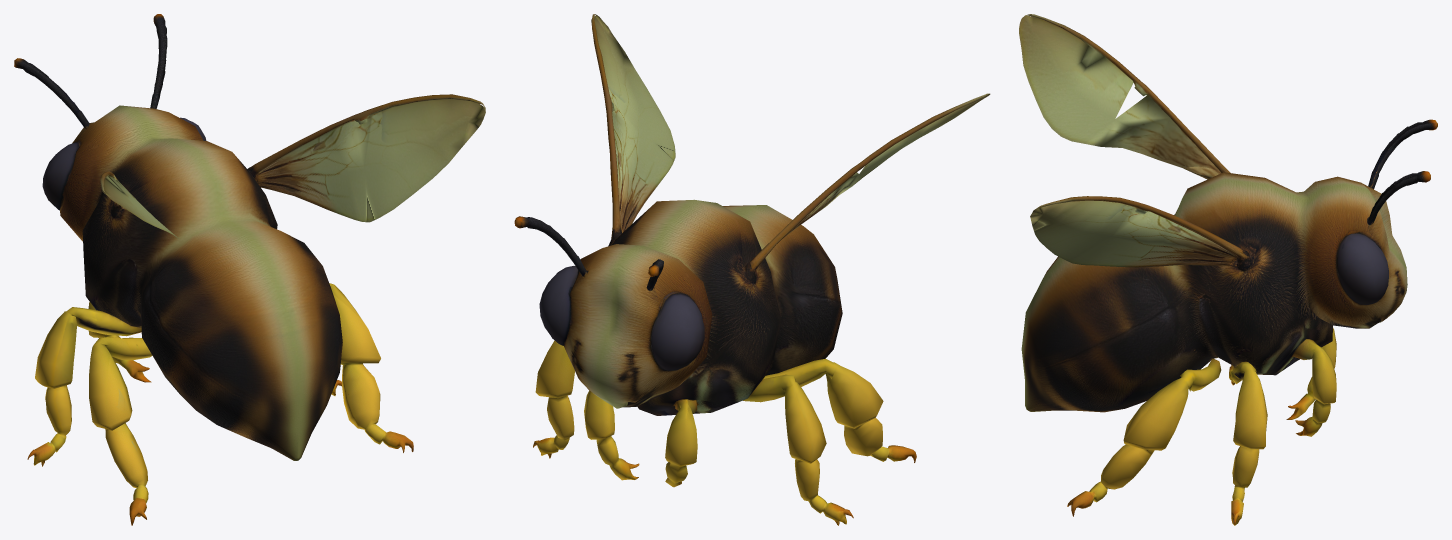
File: tile48.glb
3 views of the same model, side by side, from view 1: azimuth 30°, elevation 25°; view 2: azimuth 150°, elevation 25°; view 3: azimuth 270°, elevation 25° (orthographic). The views are drawn at different scales.
Parts seen in each view (by area): view 1: tripo_node_ce8d1464-0af0-46ca-959d-47c2a1d1414b; view 2: tripo_node_ce8d1464-0af0-46ca-959d-47c2a1d1414b; view 3: tripo_node_ce8d1464-0af0-46ca-959d-47c2a1d1414b.
Part boxes in pixels (bbox=[...]): tripo_node_ce8d1464-0af0-46ca-959d-47c2a1d1414b: bbox=[14, 14, 485, 525]; tripo_node_ce8d1464-0af0-46ca-959d-47c2a1d1414b: bbox=[514, 14, 990, 525]; tripo_node_ce8d1464-0af0-46ca-959d-47c2a1d1414b: bbox=[1019, 14, 1437, 525].
Bounding box in the file's own units: 0.998 × 0.9043 × 0.9707.
Materials: 1 (1 with a texture image).
